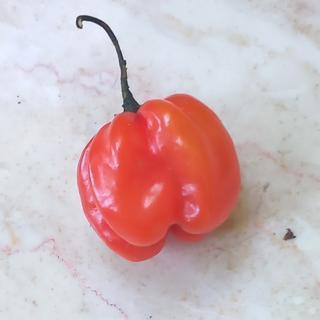Grade-B: (70, 85, 245, 266)
